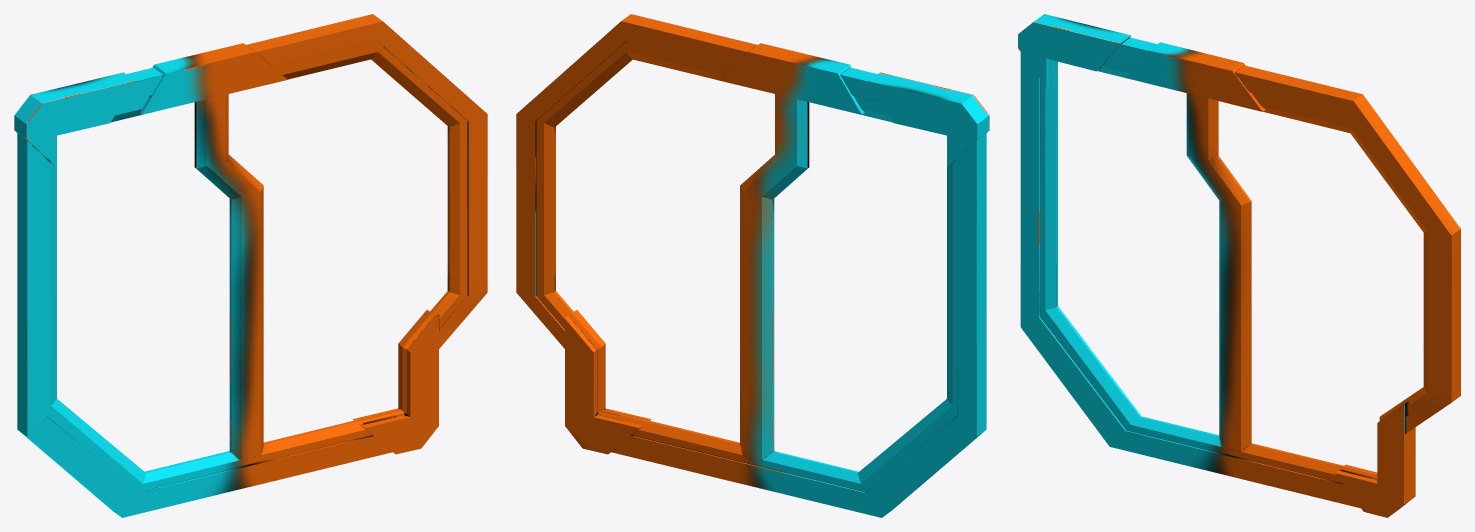
File: branched_ring_1.obj
3 views of the same model, side by side, from view 1: azimuth 30°, elevation 25°; view 2: azimuth 150°, elevation 25°; view 3: azimuth 330°, elevation 25° (orthographic). The views are drawn at different scales.
Visible parts, largest first — view 1: Ring_Branched_1_Cube.001; view 2: Ring_Branched_1_Cube.001; view 3: Ring_Branched_1_Cube.001.
Part boxes in pixels (bbox=[...]): Ring_Branched_1_Cube.001: bbox=[14, 14, 487, 517]; Ring_Branched_1_Cube.001: bbox=[516, 14, 989, 517]; Ring_Branched_1_Cube.001: bbox=[1018, 14, 1460, 517].
Size of the model in its own units: 29.33 by 26.53 by 1.33.
1 material, 1 textured.
